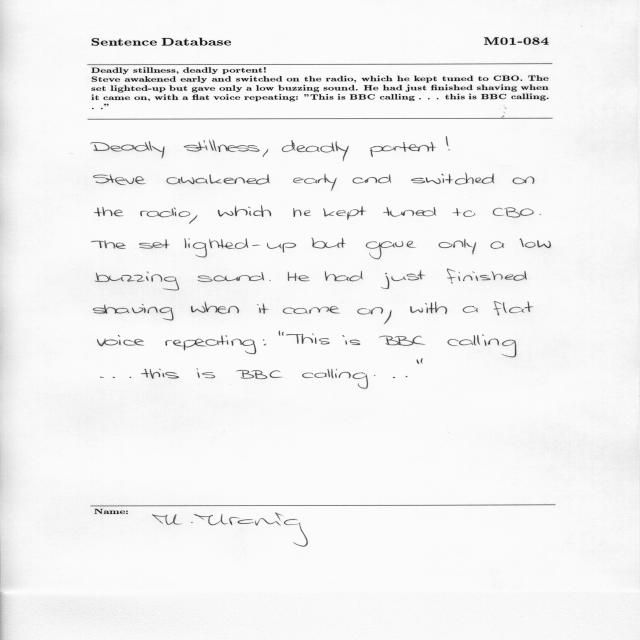word: (184, 238, 296, 258), (166, 335, 257, 354), (95, 272, 179, 291), (448, 335, 517, 358), (282, 140, 349, 161), (91, 141, 165, 159), (302, 369, 368, 389), (93, 304, 174, 320), (447, 269, 527, 284), (167, 174, 270, 185), (411, 173, 494, 185), (370, 142, 436, 157), (140, 208, 198, 225), (184, 139, 259, 152), (366, 241, 416, 259), (381, 270, 425, 289), (293, 174, 337, 191), (198, 272, 264, 282), (191, 301, 239, 314), (324, 206, 367, 220), (494, 301, 534, 316), (439, 239, 476, 255), (383, 207, 436, 217), (493, 207, 541, 218), (94, 175, 146, 185), (98, 335, 145, 346), (286, 334, 330, 345), (380, 336, 426, 346), (283, 306, 340, 314), (410, 302, 447, 314), (235, 205, 271, 217), (236, 370, 282, 379), (325, 271, 363, 281), (141, 369, 179, 379), (311, 238, 346, 248), (353, 175, 391, 184), (91, 240, 126, 249), (139, 239, 170, 249), (520, 238, 551, 248), (94, 207, 124, 216), (288, 272, 310, 282), (453, 208, 475, 217), (197, 369, 216, 379), (357, 308, 383, 315), (343, 335, 361, 345), (513, 177, 535, 185), (293, 208, 311, 217), (257, 303, 269, 314), (218, 210, 234, 217), (384, 311, 392, 325), (463, 306, 478, 313), (491, 241, 504, 249), (374, 375, 408, 378), (446, 136, 450, 150), (416, 358, 423, 364), (263, 149, 268, 157), (101, 377, 131, 378), (279, 331, 284, 336), (263, 340, 266, 346), (269, 280, 271, 281)
